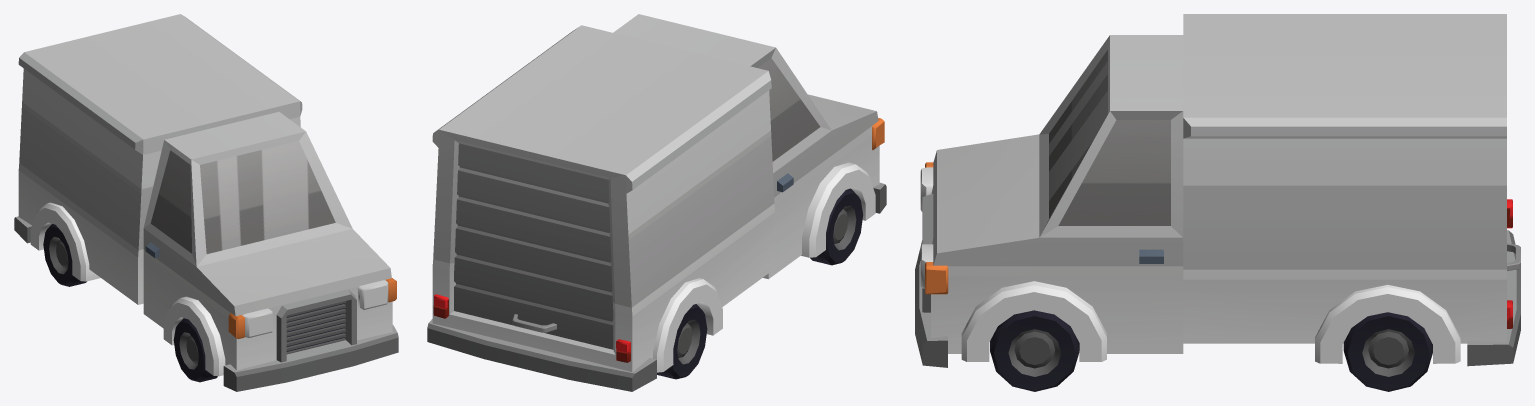
Rendered from PostCar_16.fbx.
3 views of the same model, side by side, from view 1: azimuth 30°, elevation 25°; view 2: azimuth 150°, elevation 25°; view 3: azimuth 270°, elevation 25° (orthographic). The views are drawn at different scales.
Visible parts, largest first — view 1: PostCar_16, Wheel_FR, Wheel_BR; view 2: PostCar_16, Wheel_FR, Wheel_BR; view 3: PostCar_16, Wheel_FL, Wheel_BL.
Boxes of the visible parts, bbox=[...] form: PostCar_16: bbox=[14, 14, 398, 391]; Wheel_FR: bbox=[173, 318, 217, 382]; Wheel_BR: bbox=[43, 224, 86, 286]; PostCar_16: bbox=[427, 14, 886, 391]; Wheel_FR: bbox=[810, 188, 863, 265]; Wheel_BR: bbox=[657, 304, 707, 379]; PostCar_16: bbox=[915, 14, 1520, 367]; Wheel_FL: bbox=[990, 310, 1079, 391]; Wheel_BL: bbox=[1343, 312, 1432, 391].
Size of the model in its own units: 1.18 by 1.24 by 2.51.
